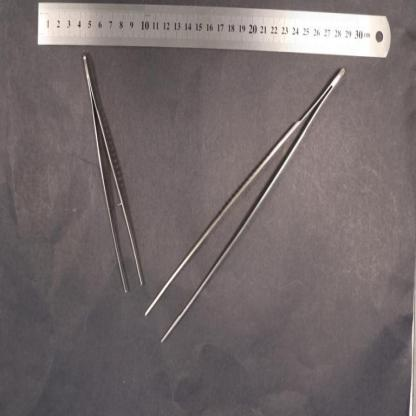DeBakey Dissector: (144, 67, 347, 345)
Gillies Toothed Dissector: (82, 51, 144, 294)
